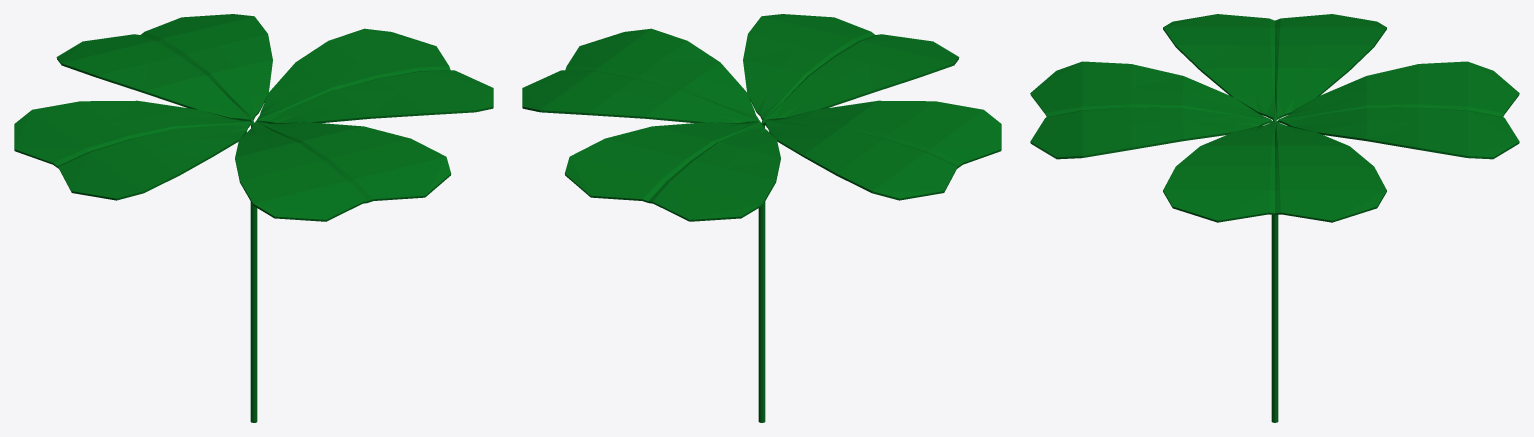
File: clover.gltf
3 views of the same model, side by side, from view 1: azimuth 30°, elevation 25°; view 2: azimuth 150°, elevation 25°; view 3: azimuth 270°, elevation 25° (orthographic).
Visible parts, largest first — view 1: node-0; view 2: node-0; view 3: node-0.
Boxes of the visible parts, x1=… form: node-0: x1=14, y1=14, x2=493, y2=422; node-0: x1=522, y1=14, x2=1001, y2=422; node-0: x1=1030, y1=14, x2=1519, y2=422.
Bounding box in the file's own units: 2.2 × 1.56 × 2.2.
